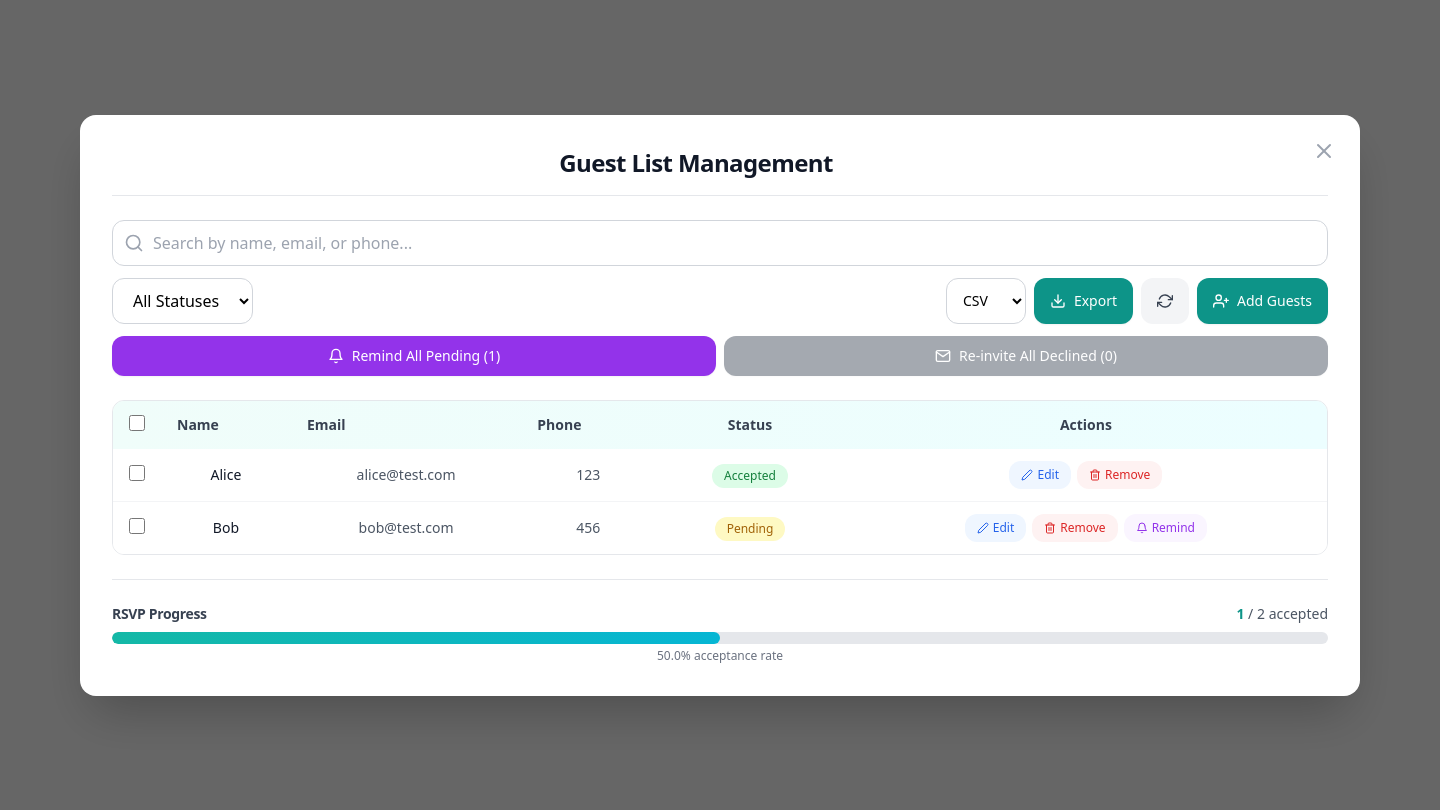
Test: RSVPModal › filters guests by search term
Type "Alice" into the field with placeholder "Search by name, email, or phone...".
click(720, 242); type("Alice")  # box [112,220,1328,266]
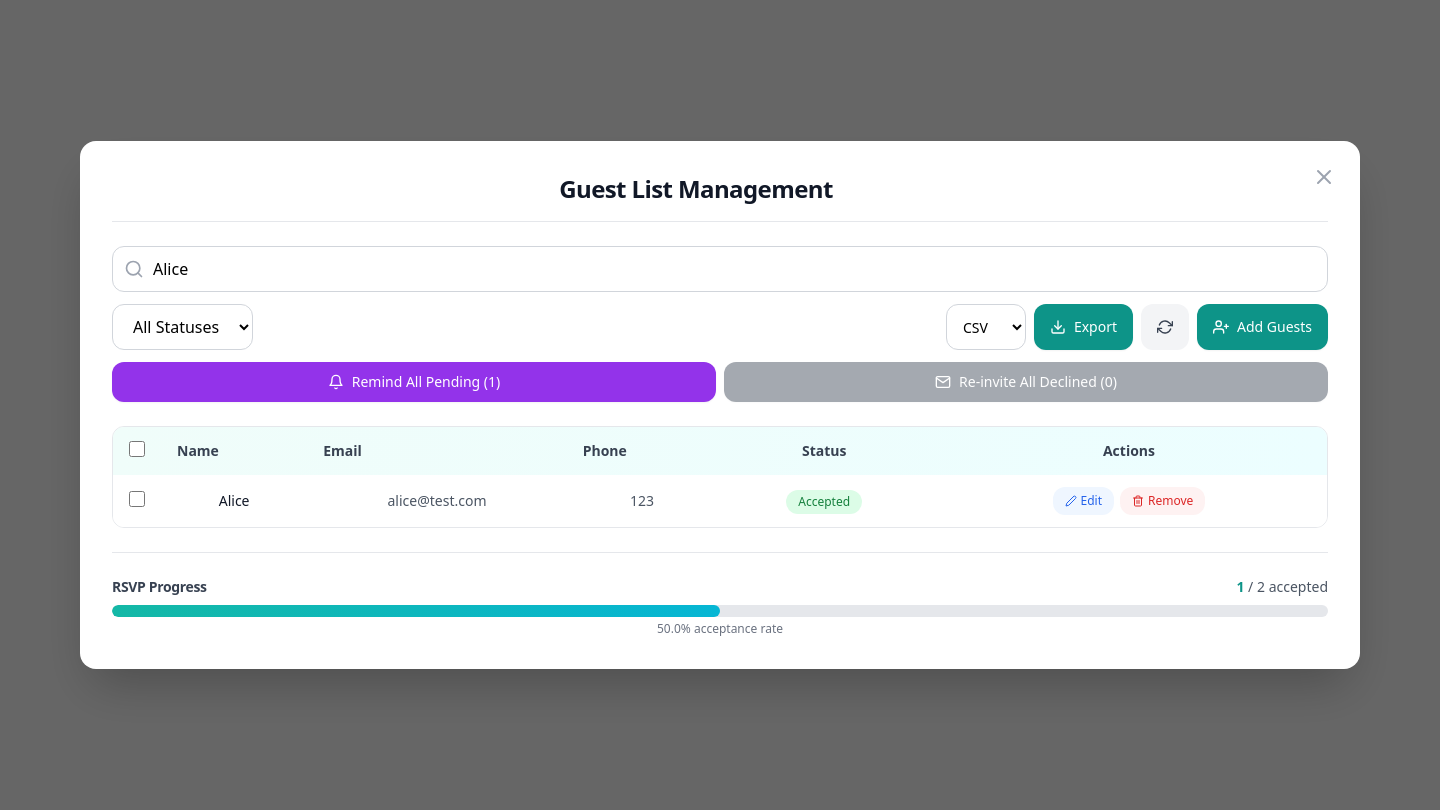
Expected: the text "Alice" is shown, [161,475,307,527]
Expected: the text "Bob" is gone
